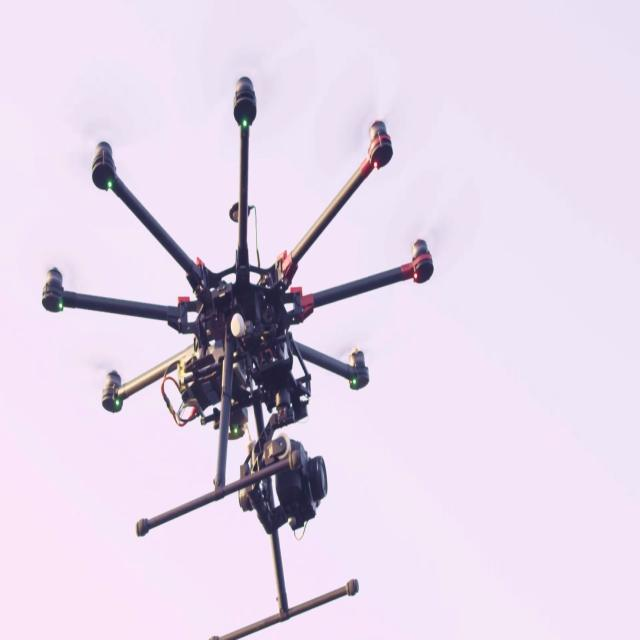drone: (33, 53, 442, 629)
